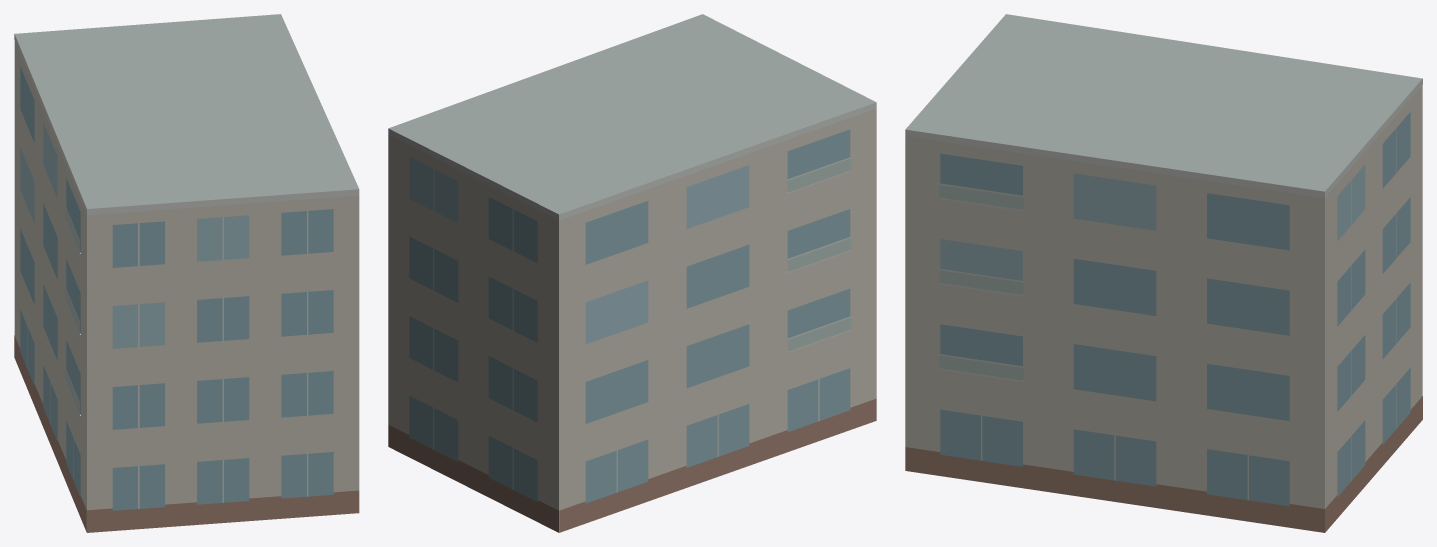
Rendered from survey-upis-32880534.glb.
3 views of the same model, side by side, from view 1: azimuth 30°, elevation 25°; view 2: azimuth 150°, elevation 25°; view 3: azimuth 270°, elevation 25° (orthographic). The views are drawn at different scales.
Visible parts, largest first — view 1: survey-upis-32880534.tmp; view 2: survey-upis-32880534.tmp; view 3: survey-upis-32880534.tmp.
Part boxes in pixels (box(x1,y1,x2,y2)): survey-upis-32880534.tmp: box(14, 14, 359, 532); survey-upis-32880534.tmp: box(388, 14, 876, 532); survey-upis-32880534.tmp: box(905, 14, 1422, 532).
Bounding box in the file's own units: 14.3 × 12.8 × 17.6.
